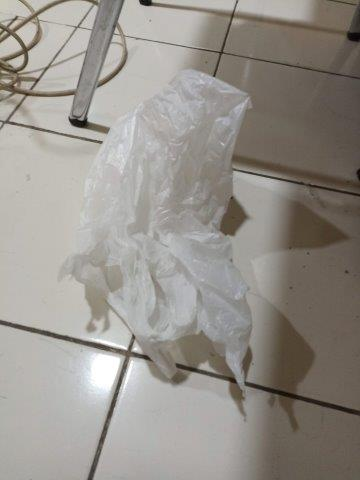plastik: (58, 68, 252, 394)
